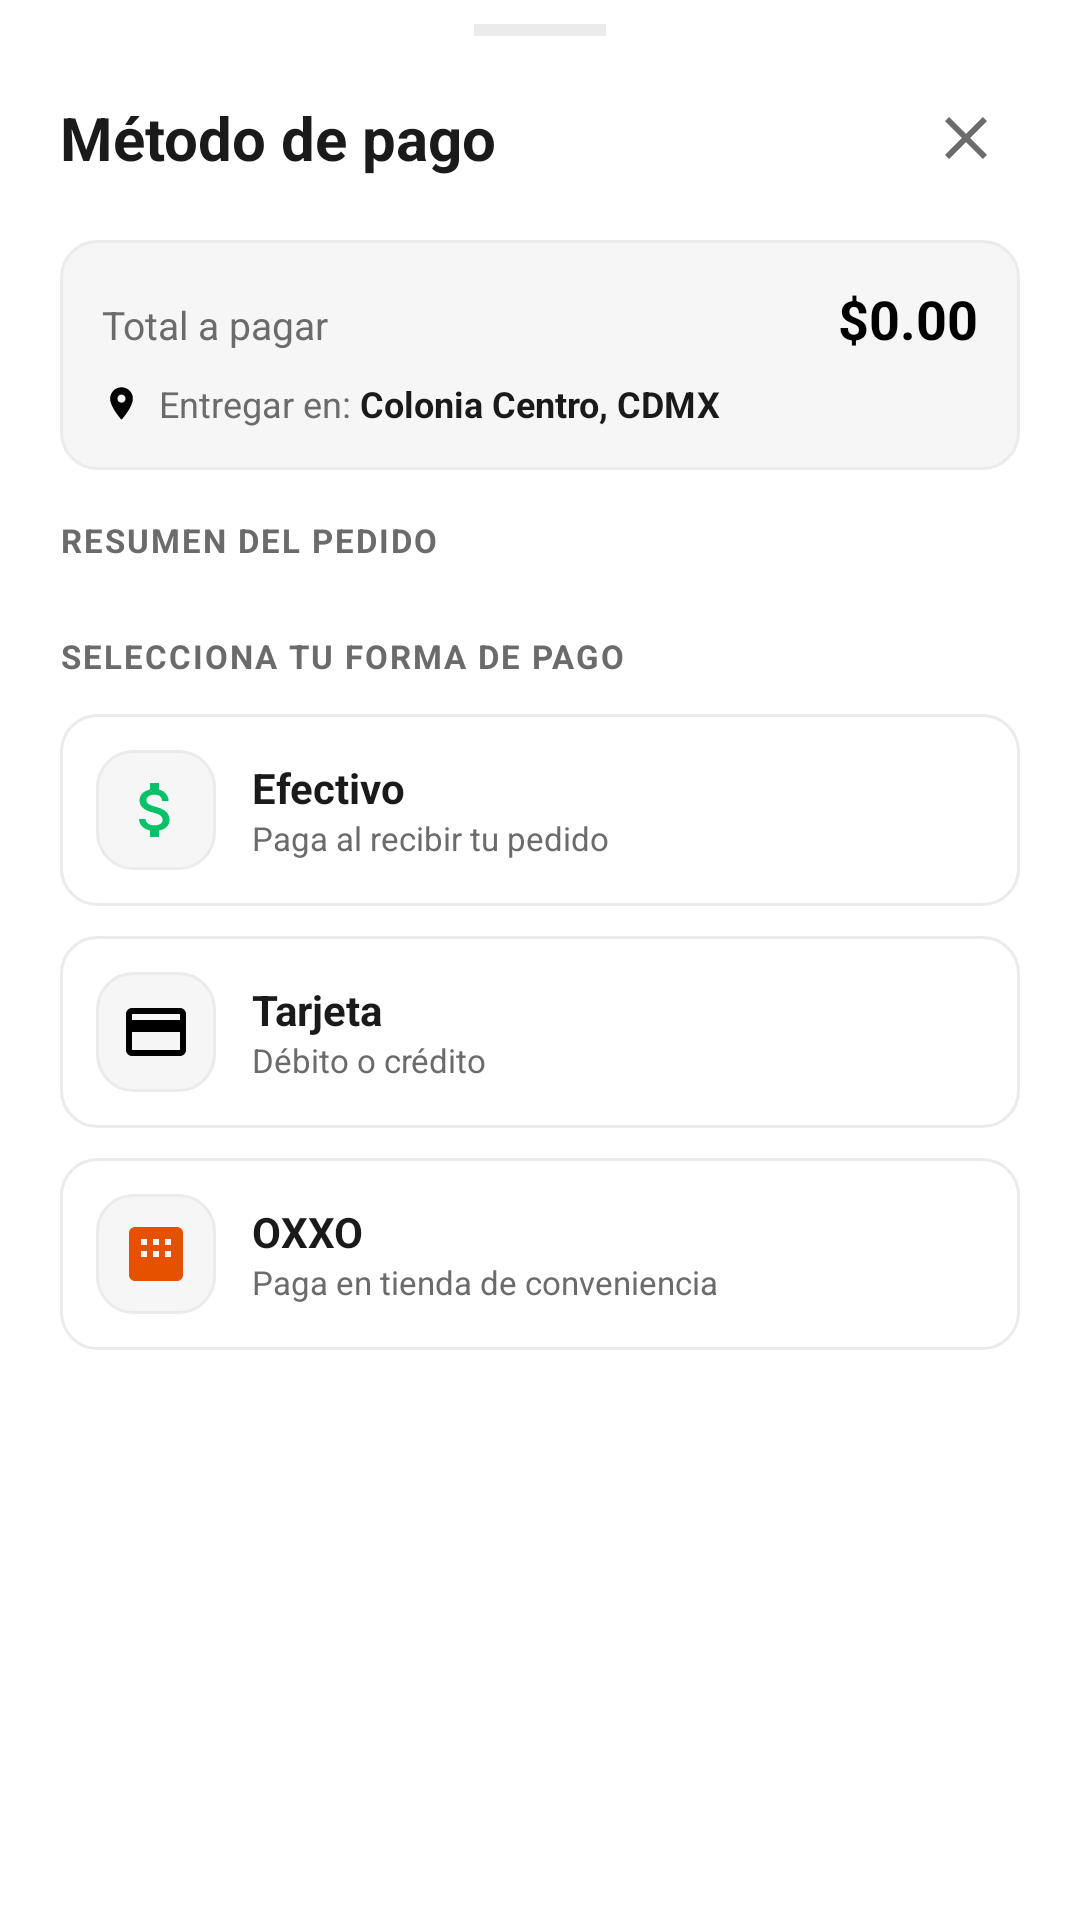

Screen size 1080px×1920px. Icon name, then its center in pixels as [x,y]:
cash: [154,810]
Cerrar: [966,138]
credit card: [156,1032]
location: [121,403]
